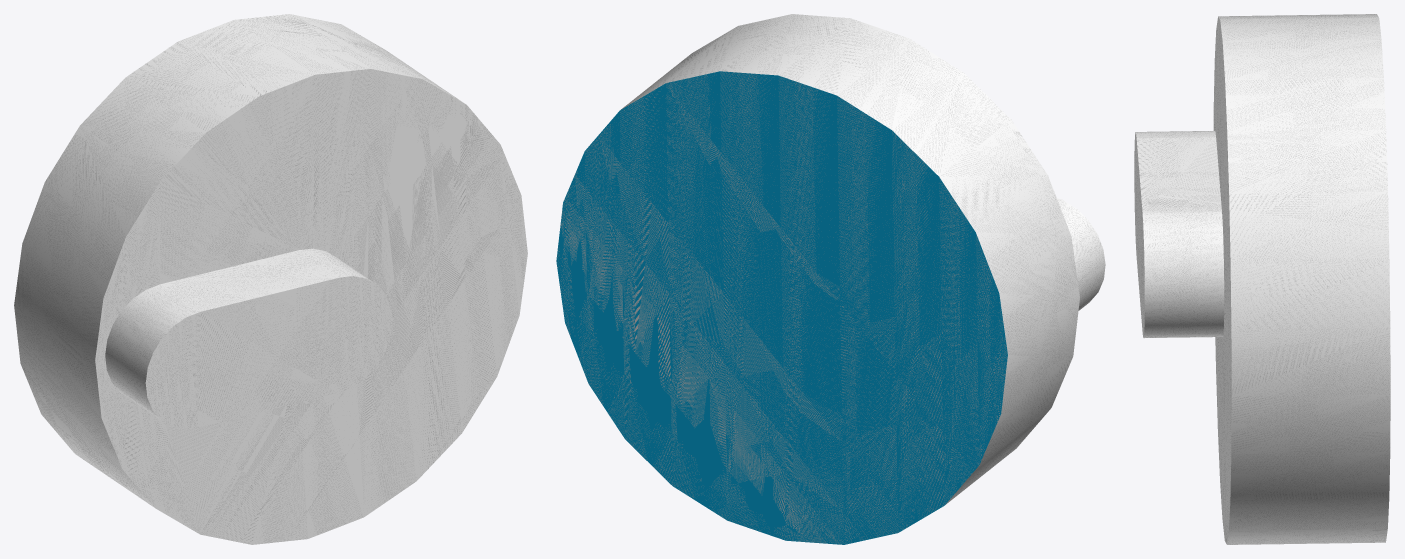
Rendered from original-3.obj.
3 views of the same model, side by side, from view 1: azimuth 30°, elevation 25°; view 2: azimuth 150°, elevation 25°; view 3: azimuth 270°, elevation 25° (orthographic). The views are drawn at different scales.
Visible parts, largest first — view 1: Group3/mesh2/mesh2-geometry#mesh2-geometry; view 2: Group3/mesh2/mesh2-geometry#mesh2-geometry; view 3: Group3/mesh2/mesh2-geometry#mesh2-geometry.
Boxes of the visible parts, <box> form: Group3/mesh2/mesh2-geometry#mesh2-geometry: <box>14,14,527,544</box>; Group3/mesh2/mesh2-geometry#mesh2-geometry: <box>556,14,1105,544</box>; Group3/mesh2/mesh2-geometry#mesh2-geometry: <box>1134,14,1390,544</box>.
Bounding box in the file's own units: 0.0606 × 0.06 × 0.029.
